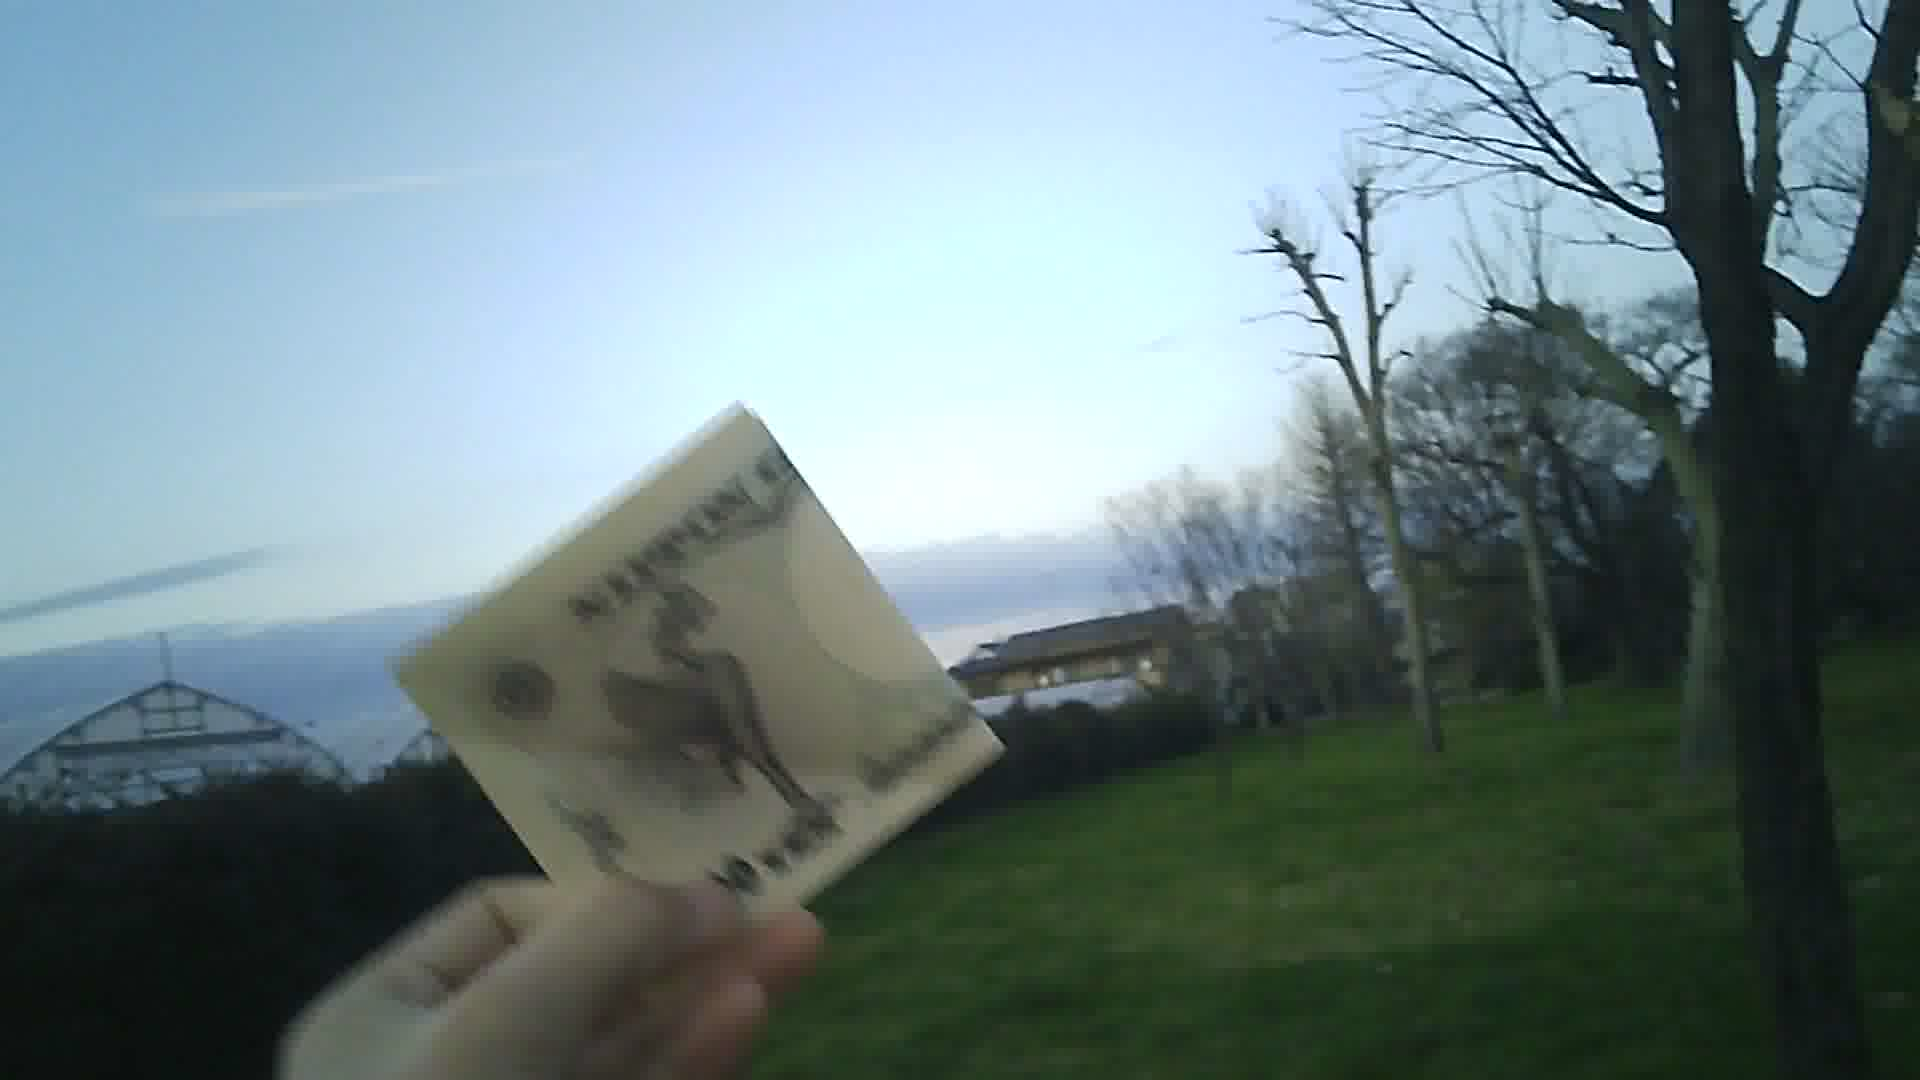10,000 Yen: (386, 369, 997, 942)
